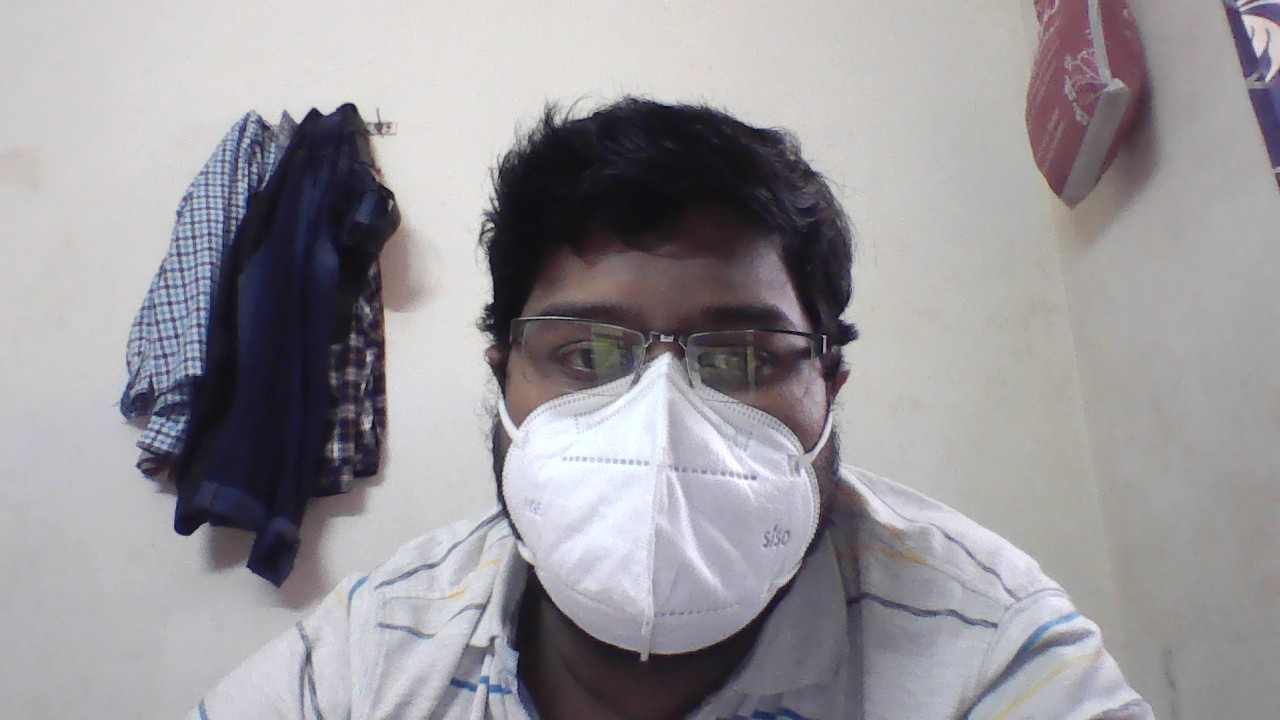Mask: (462, 365, 859, 578)
